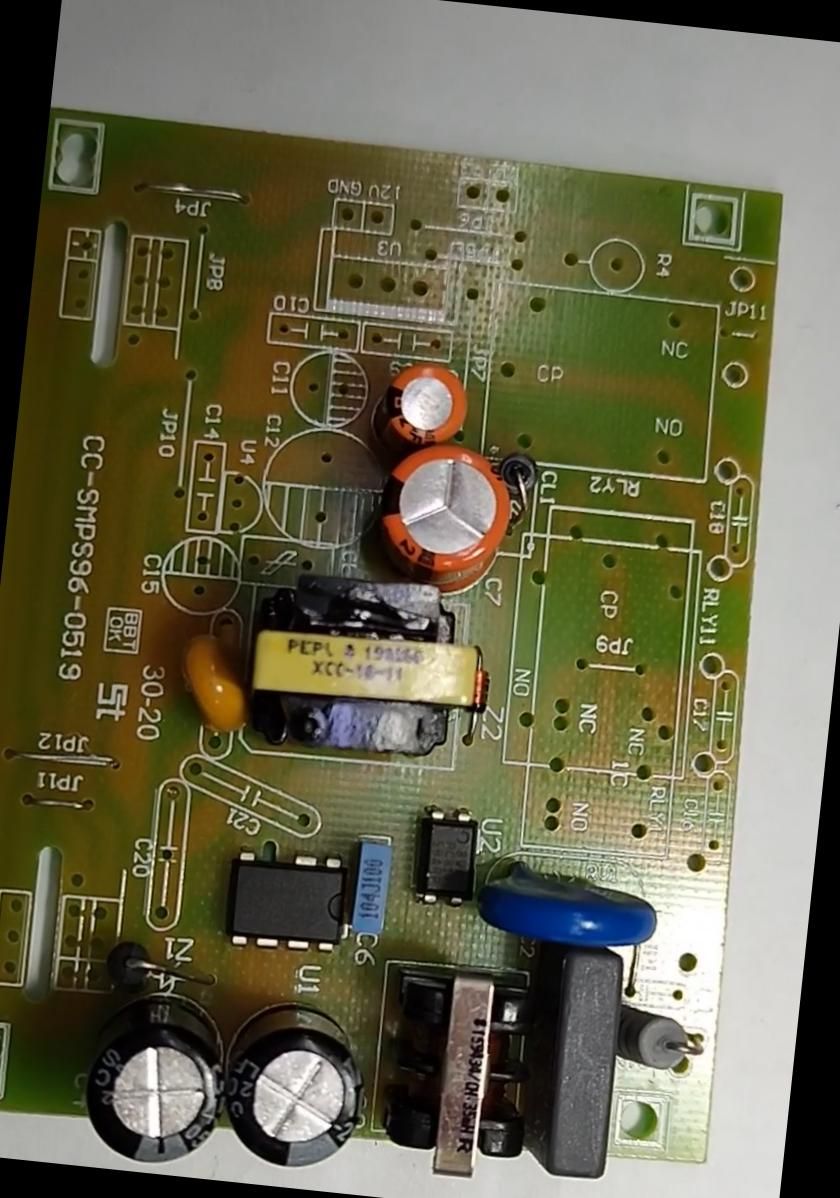Cap1: (362, 430, 526, 600)
Cap2: (370, 350, 480, 456)
Cap3: (219, 982, 381, 1194)
Cap4: (66, 970, 245, 1180)
MOSFET: (208, 832, 368, 964)
Mov: (463, 851, 667, 959)
Resistor: (612, 1008, 714, 1081)
Transformer: (214, 550, 504, 772), (364, 941, 546, 1192)
